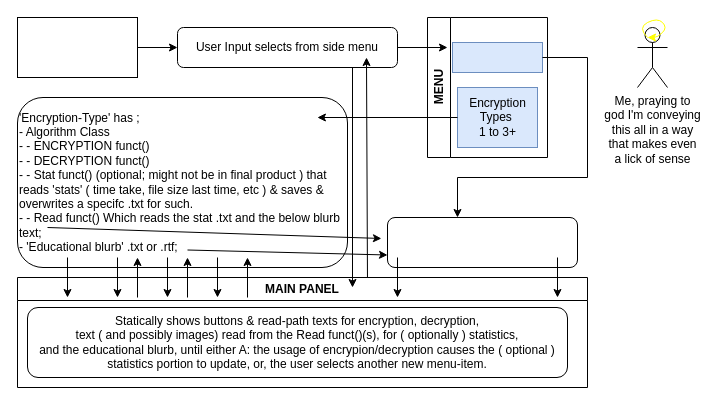
This 718x405 diagram has some shape labels left out. The centre of each missing label's shape, as x and y in pixels:
Homepage: (497,57)
Reads from .txt(s) and/or .rtf(s) found within App files: (482,242)
START ( assuming already installed program ): (77,47)
